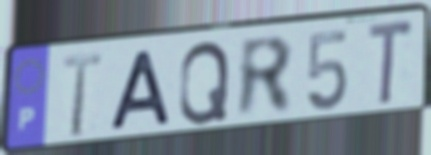5: (304, 26, 350, 114)
A: (108, 47, 175, 133)
Q: (176, 38, 232, 128)
R: (236, 34, 295, 122)
T: (365, 16, 417, 110), (60, 49, 105, 141)
